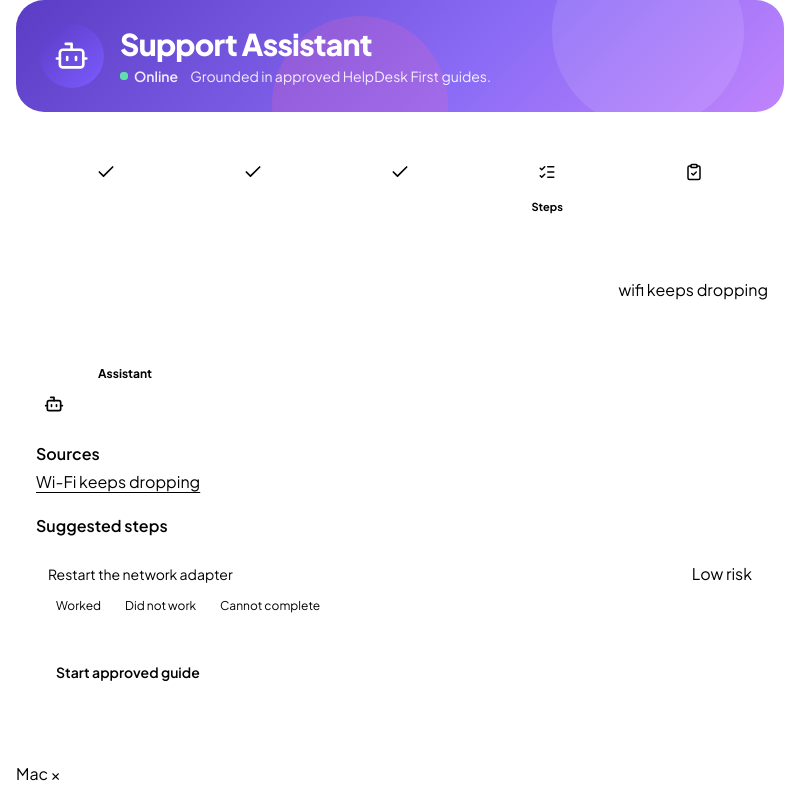
Test: AssistantWorkspace › keeps a worked step visible with its outcome and resolution message
Click the button "Worked": (79, 606) [48, 594, 109, 618]
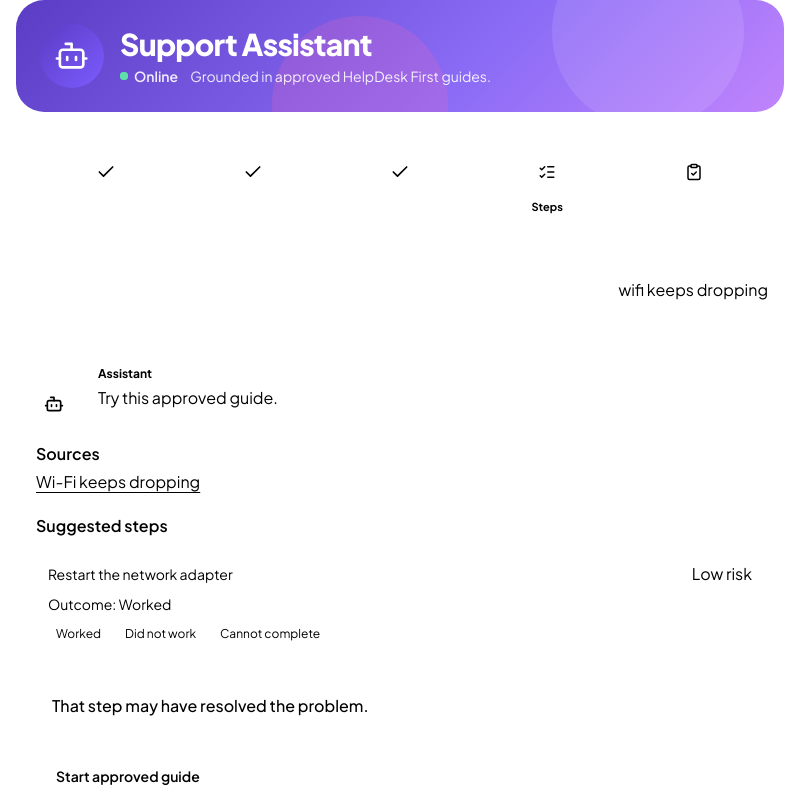
Expected: the heading "Sources" is shown, [36, 443, 100, 464]
Now the text "Outcome: Worked" is shown, box [48, 595, 171, 613]
Now the text "That step may have resolved the problem." is shown, box [52, 695, 368, 716]
